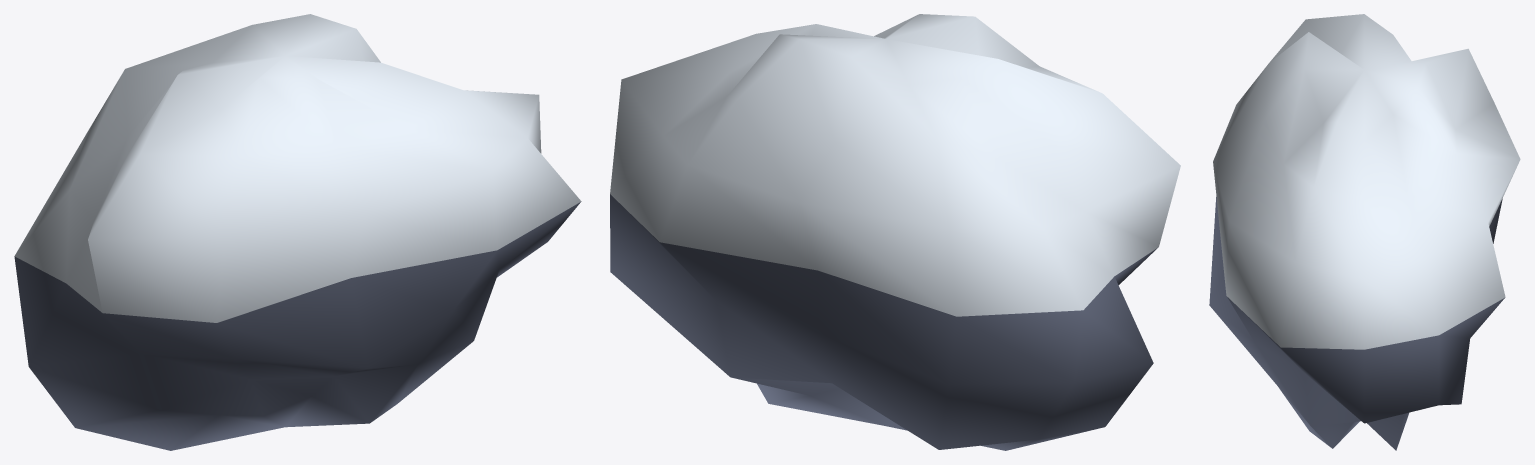
Rendered from Rock5.fbx.
3 renders of one model, left to right at view 1: azimuth 30°, elevation 25°; view 2: azimuth 150°, elevation 25°; view 3: azimuth 270°, elevation 25°, orthographic. The views are drawn at different scales.
Parts seen in each view (by area): view 1: Rock; view 2: Rock; view 3: Rock.
Boxes of the visible parts, x1,y1,x2,y2 form: Rock: [14, 14, 581, 450]; Rock: [610, 14, 1180, 450]; Rock: [1209, 14, 1520, 450].
Size of the model in its own units: 4.53 by 3.21 by 2.51.
